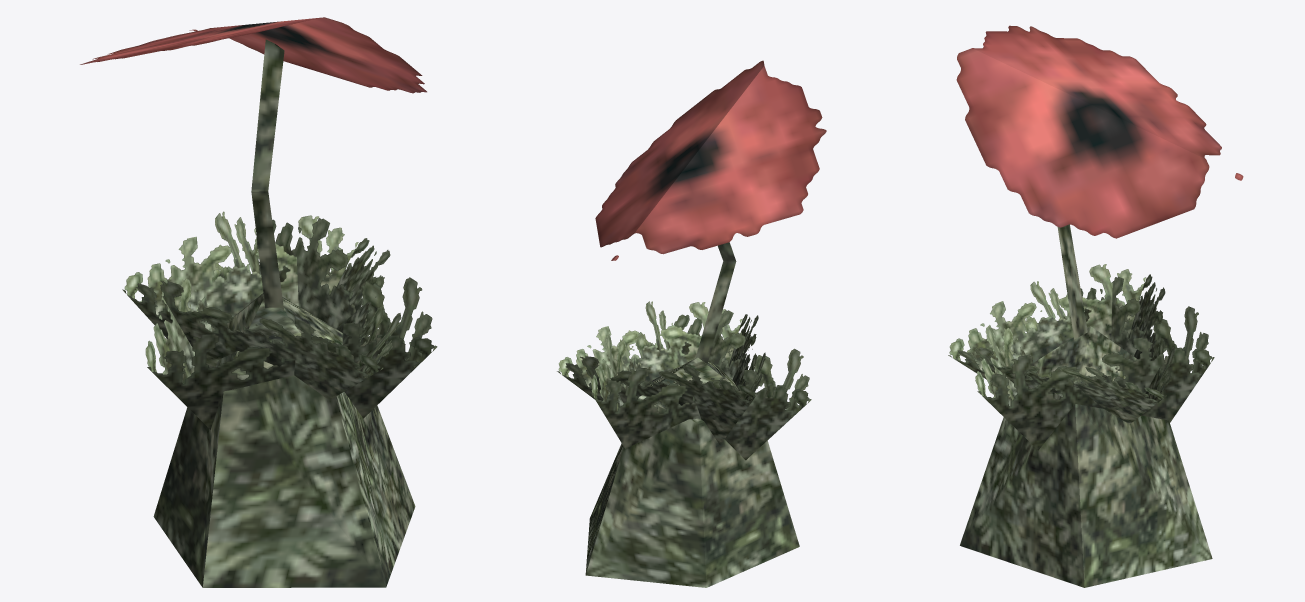
The model's file is C4SNPOPPY.obj.
3 views of the same model, side by side, from view 1: azimuth 30°, elevation 25°; view 2: azimuth 150°, elevation 25°; view 3: azimuth 270°, elevation 25° (orthographic). The views are drawn at different scales.
Parts seen in each view (by area): view 1: Node 0; view 2: Node 0; view 3: Node 0.
Part boxes in pixels (<box>): Node 0: <box>80,17,437,587</box>; Node 0: <box>557,60,826,587</box>; Node 0: <box>948,25,1243,587</box>.
Bounding box in the file's own units: 1.32 × 1.79 × 1.25.
1 material, 1 textured.
